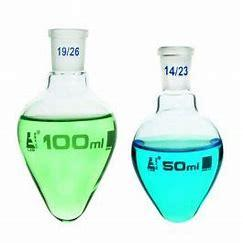Pear shaped flask: (23, 21, 117, 227), (132, 40, 226, 217)
